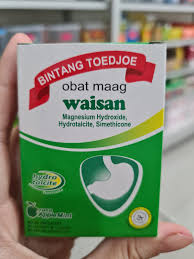Mekocefaclor: (64, 100, 125, 112)
